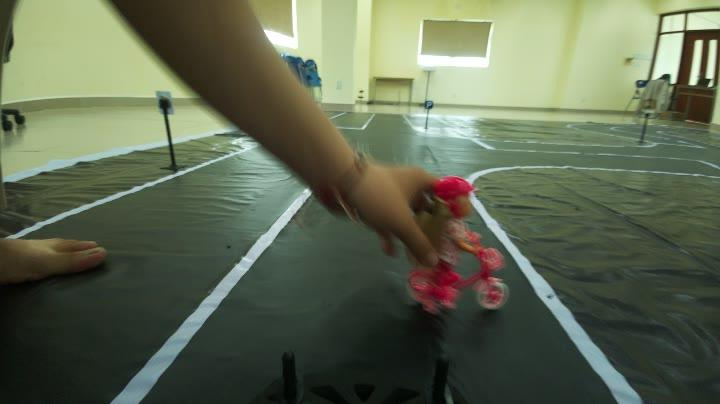pedestrian: (418, 174, 510, 313)
